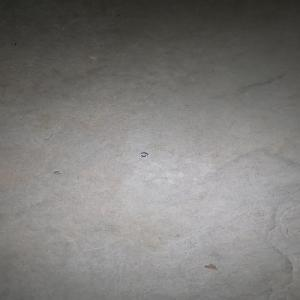Nut: (139, 152, 148, 158)
